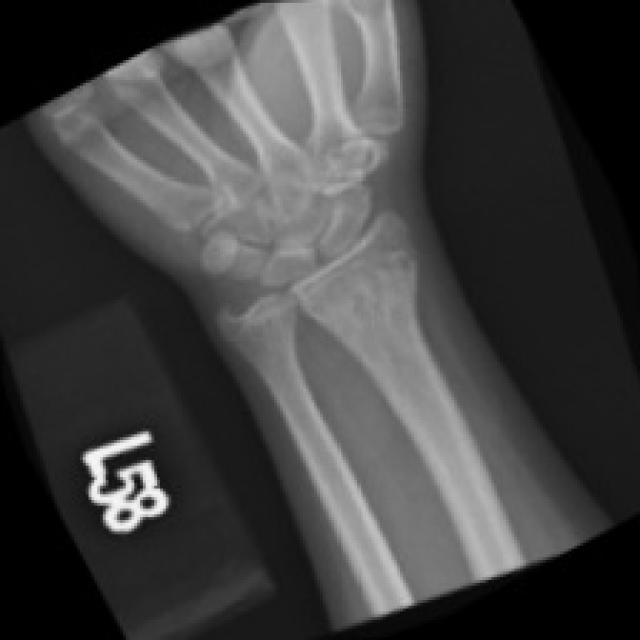fracture: (171, 233, 316, 364)
